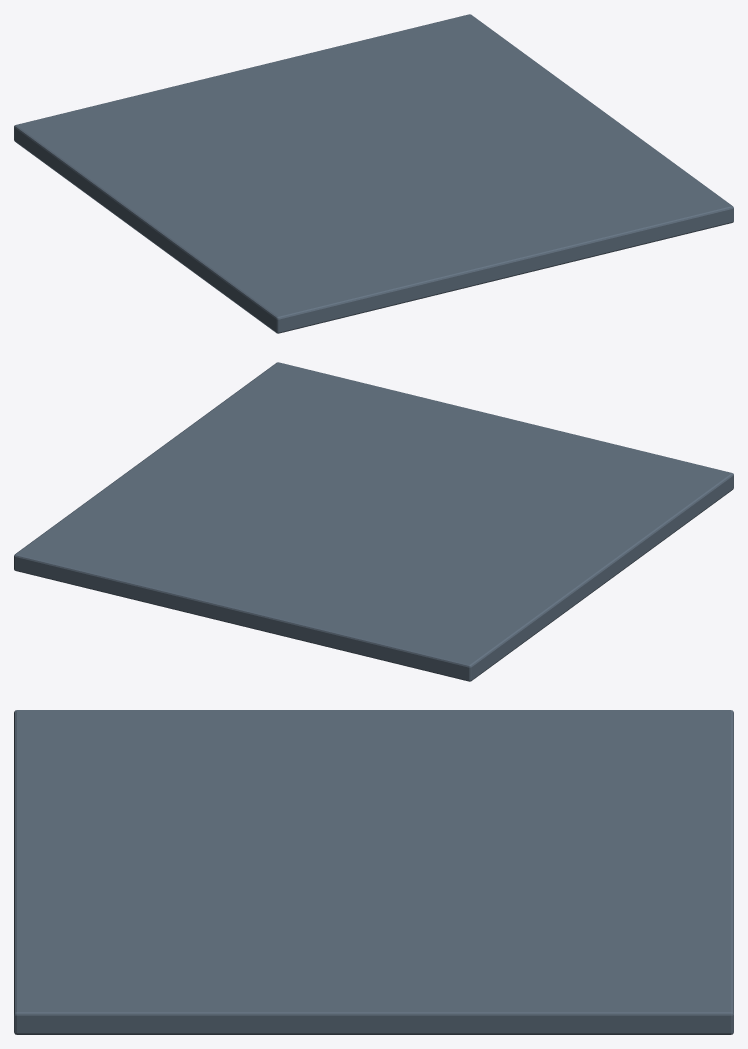
3 views of the same model, one above another, from view 1: azimuth 30°, elevation 25°; view 2: azimuth 150°, elevation 25°; view 3: azimuth 270°, elevation 25° (orthographic). The views are drawn at different scales.
Visible parts, largest first — view 1: Plane_M_stone; view 2: Plane_M_stone; view 3: Plane_M_stone.
Part boxes in pixels (bbox=[...]): Plane_M_stone: bbox=[14, 14, 733, 333]; Plane_M_stone: bbox=[14, 362, 733, 681]; Plane_M_stone: bbox=[14, 710, 733, 1034].
Size of the model in its own units: 1 by 0.035 by 1.
